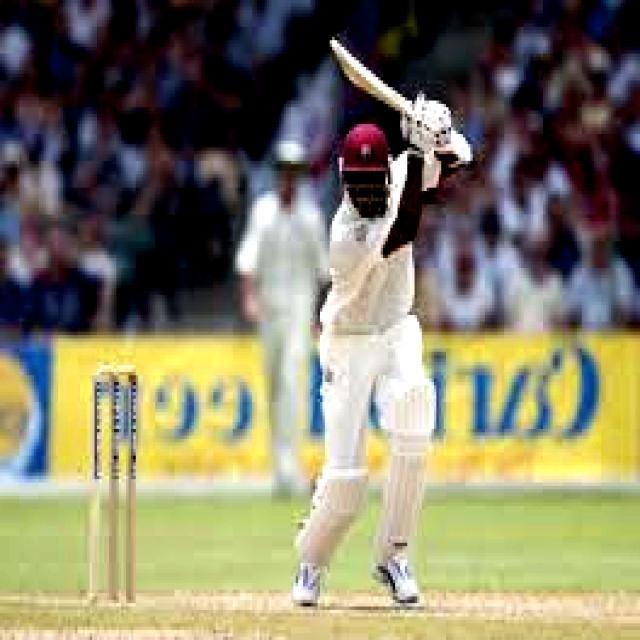bat: (314, 29, 411, 116)
